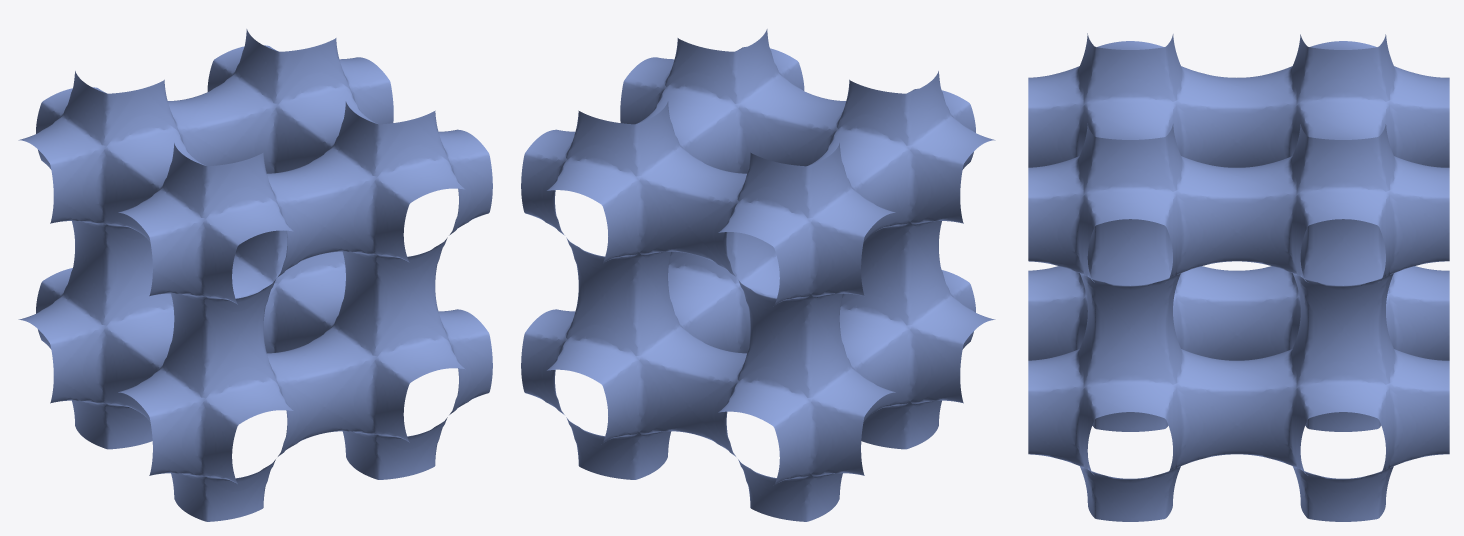
3 views of the same model, side by side, from view 1: azimuth 30°, elevation 25°; view 2: azimuth 150°, elevation 25°; view 3: azimuth 270°, elevation 25° (orthographic). The views are drawn at different scales.
Parts seen in each view (by area): view 1: world; view 2: world; view 3: world.
Part boxes in pixels (left/top/right/bottom): world: left=18, top=29, right=492, bottom=521; world: left=521, top=29, right=995, bottom=521; world: left=1028, top=33, right=1449, bottom=521.
Size of the model in its own units: 99 by 99 by 99.
